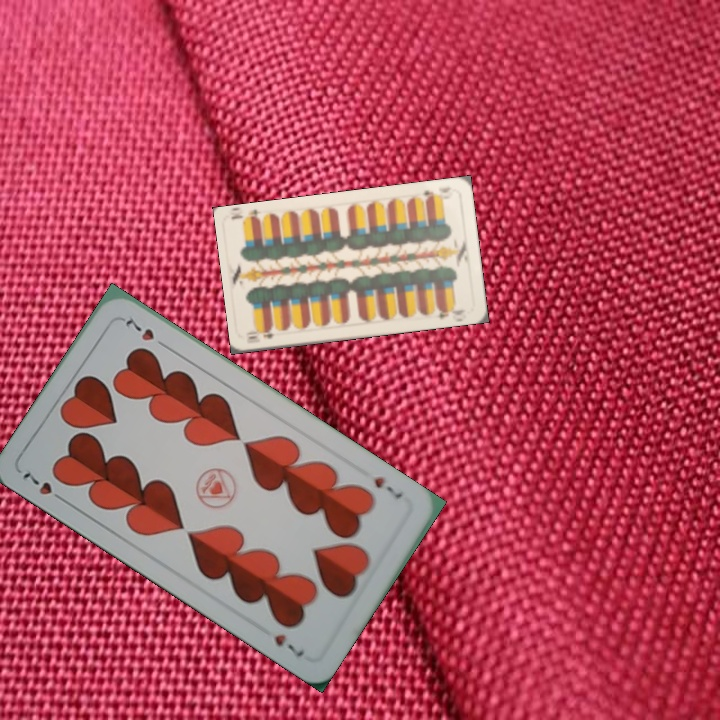E10: (243, 325, 276, 342), (419, 186, 443, 204)
H7: (18, 465, 69, 506), (370, 472, 405, 502)
